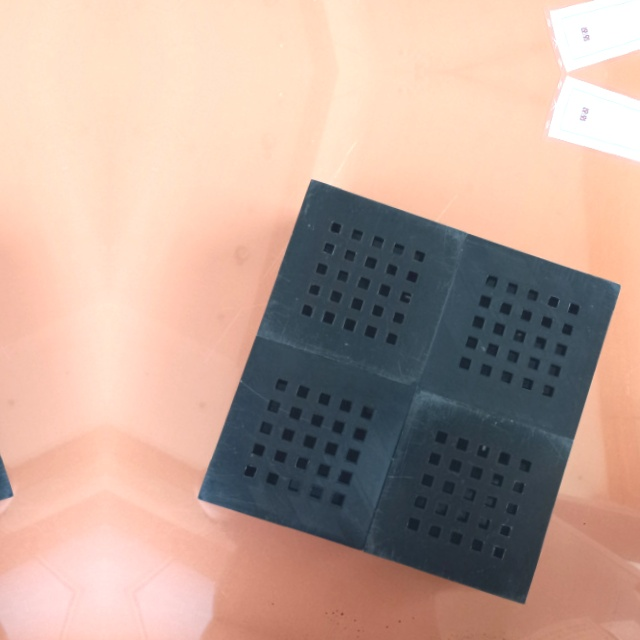pallet: (178, 163, 626, 613)
